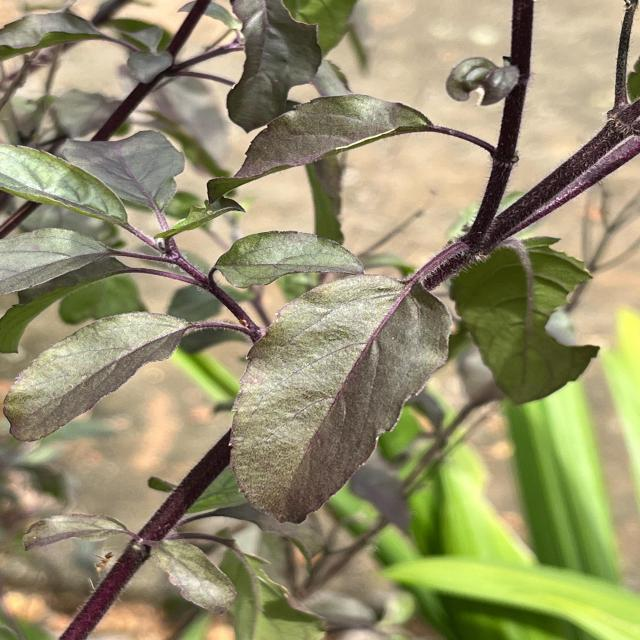Ocimum tenuiflorum: (225, 272, 455, 528)
